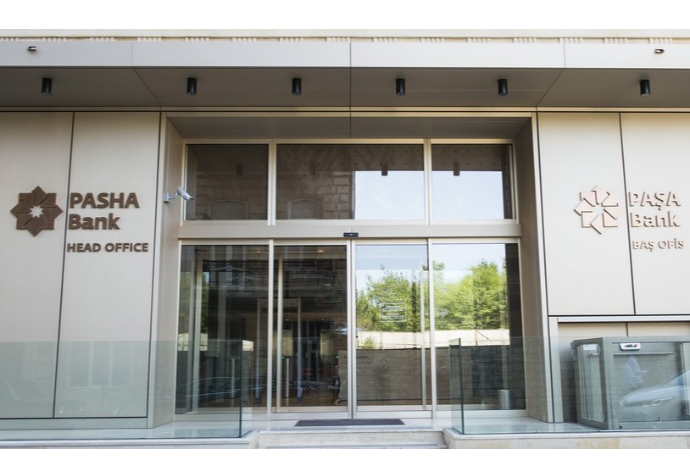Pasha Bank: (9, 184, 64, 238), (573, 182, 624, 236)
